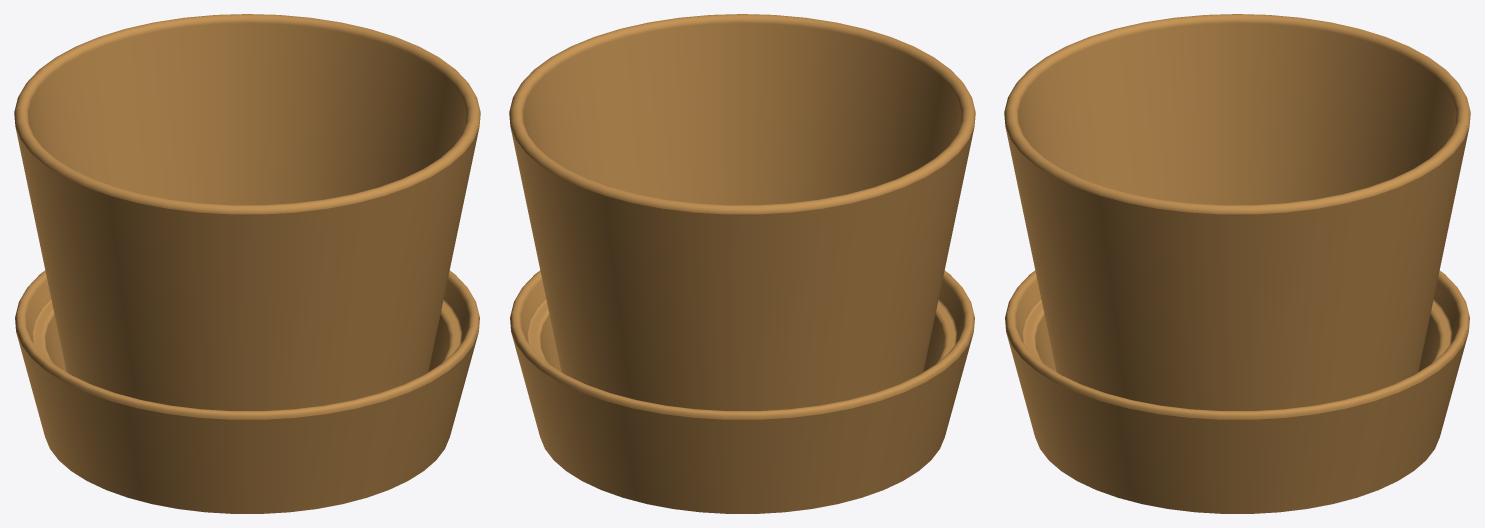
Rendered from pot.fbx.
The picture shows the model from 3 angles, left to right: view 1: azimuth 30°, elevation 25°; view 2: azimuth 150°, elevation 25°; view 3: azimuth 270°, elevation 25°; orthographic projection.
Visible parts, largest first — view 1: IKE160045; view 2: IKE160045; view 3: IKE160045.
Boxes of the visible parts, x1,y1,x2,y2 form: IKE160045: (14,14,480,513); IKE160045: (509,14,975,513); IKE160045: (1004,14,1470,513).
Bounding box in the file's own units: 19938 × 14997 × 19950.
